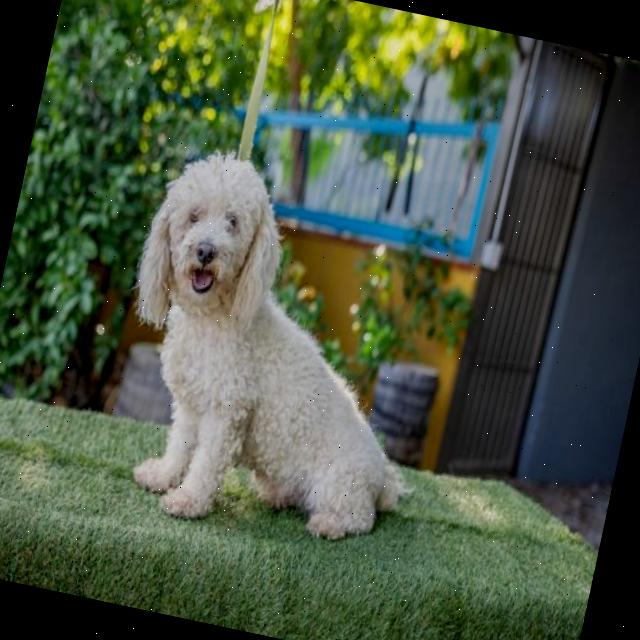Poodle_dog: (110, 132, 312, 362)
